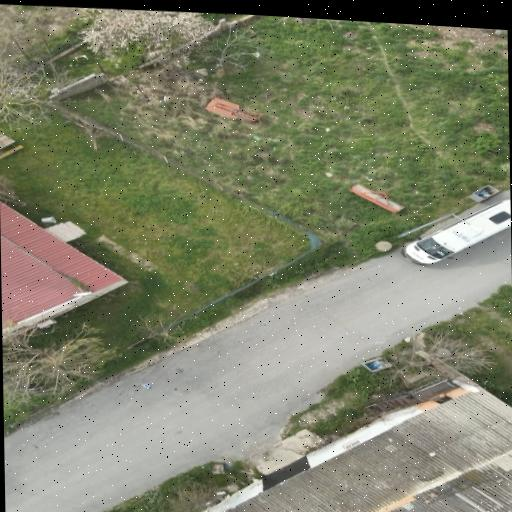bus: (401, 199, 510, 263)
